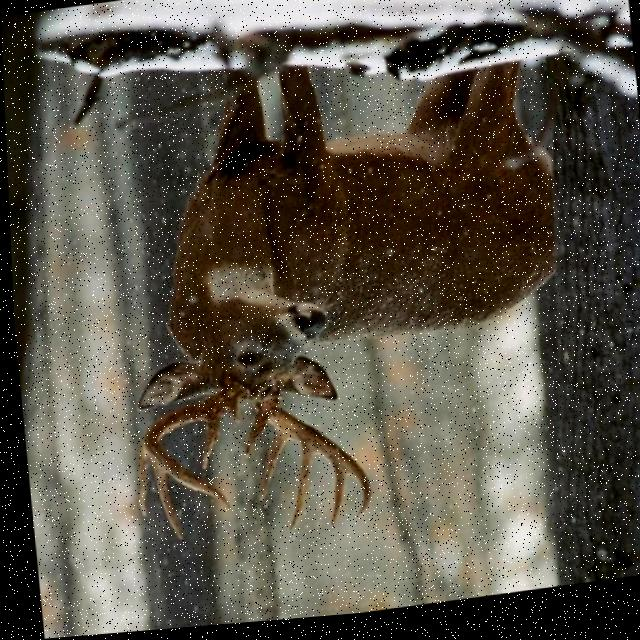L-F: (252, 393, 367, 522)
L-G1: (240, 417, 265, 464)
L-G2: (254, 434, 288, 505)
L-G3: (283, 448, 316, 537)
L-G4: (325, 468, 345, 533)
R-E1: (222, 408, 237, 427)
R-F: (140, 380, 247, 516)
R-G1: (197, 417, 220, 474)
R-G2: (132, 441, 145, 519)
R-G3: (144, 456, 179, 544)
